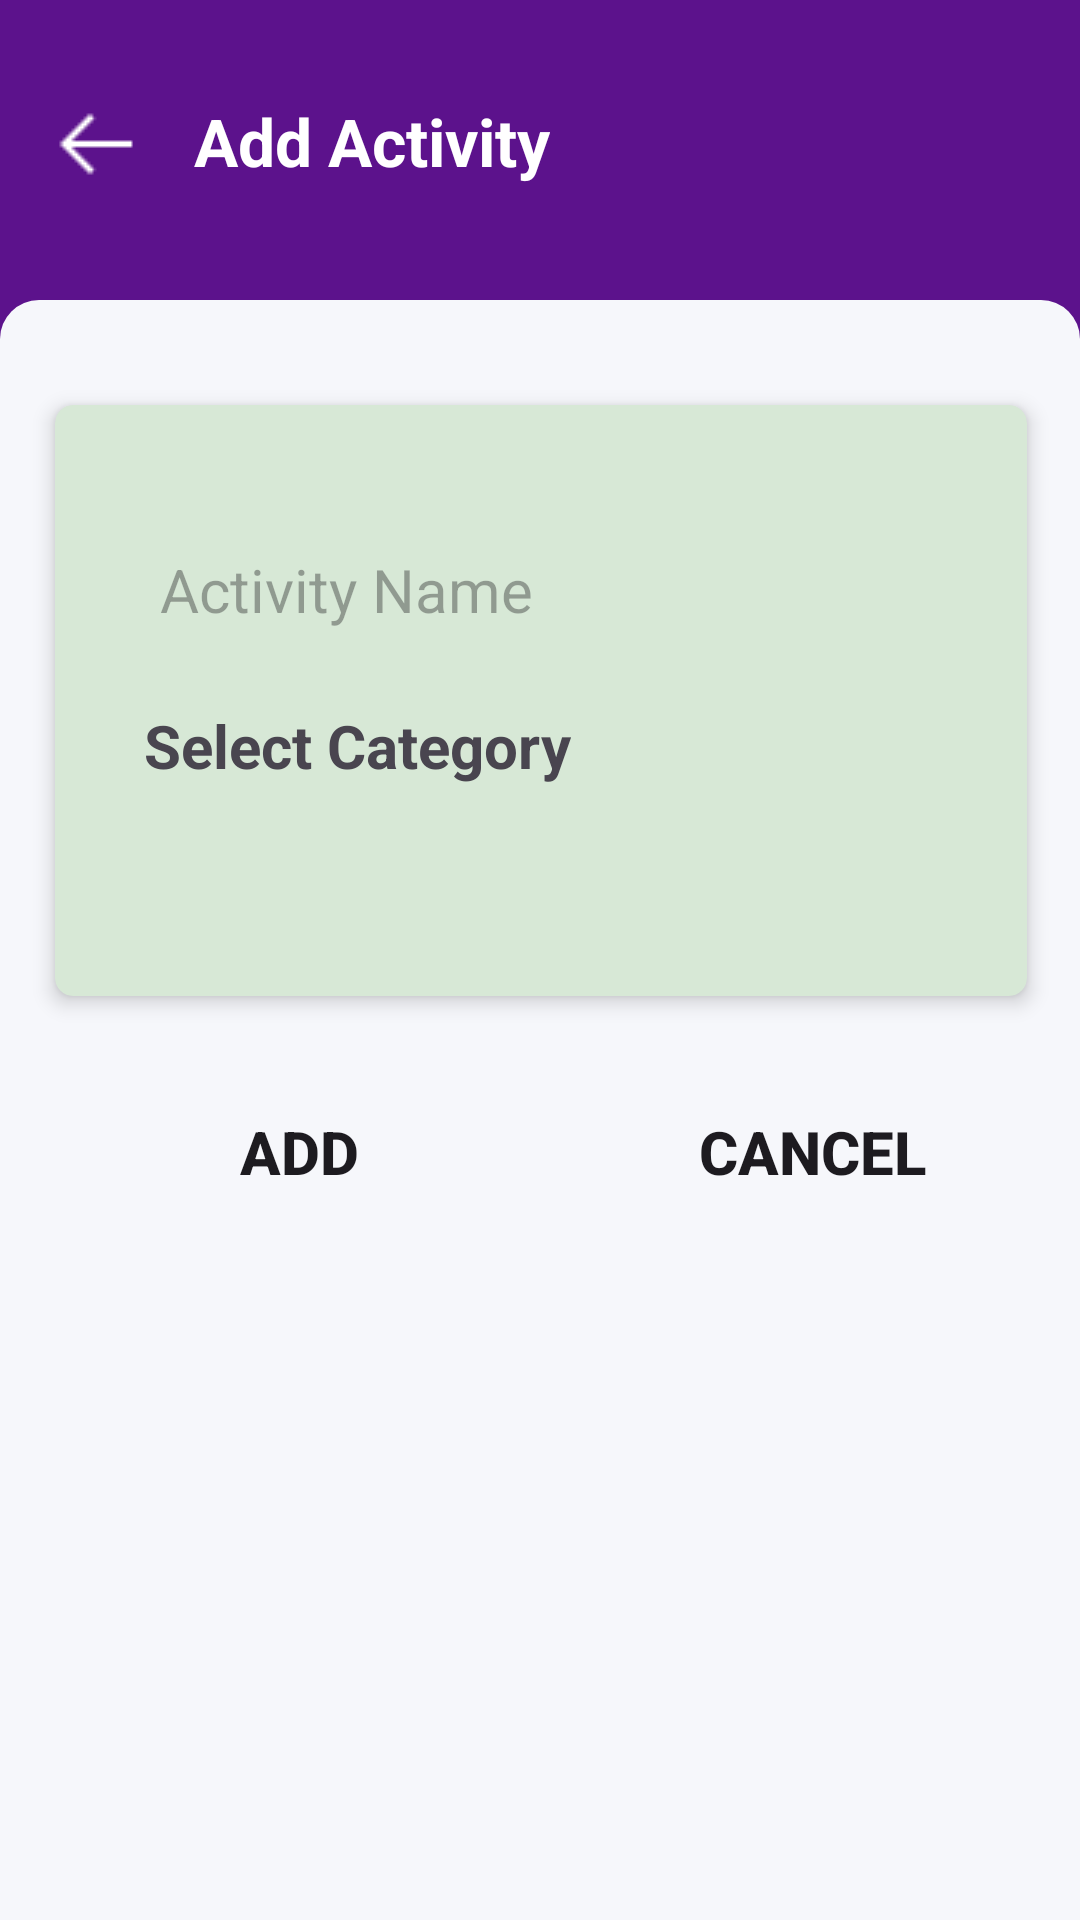

Screen size 1080x1920. Icon name, then its center in pixels as point (x, y):
arrow: point (96, 144)
